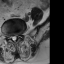CCS_normal: (13, 33, 15, 44)
LFS_severe_stenosis: (17, 32, 20, 38)
LLS_normal: (15, 33, 17, 41)
RFS_normal: (8, 33, 11, 40)
RLS_normal: (11, 33, 13, 42)
